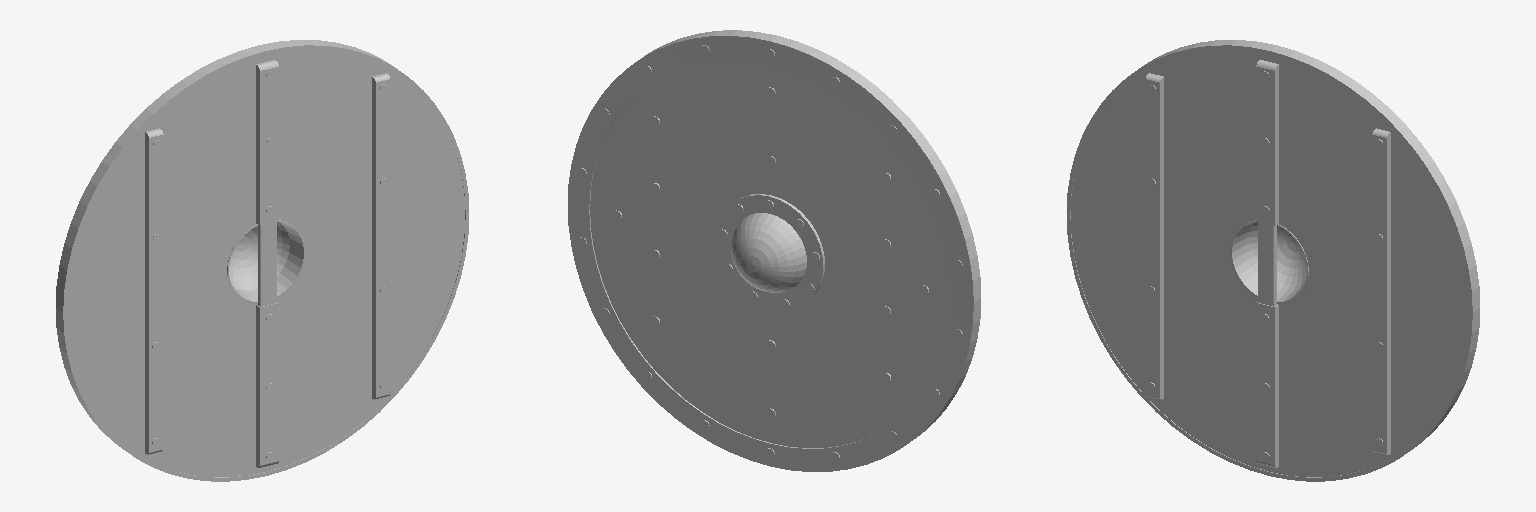
Rendered from shield.obj.
The picture shows the model from 3 angles: view 1: azimuth 30°, elevation 25°; view 2: azimuth 150°, elevation 25°; view 3: azimuth 330°, elevation 25°; orthographic projection.
Visible parts, largest first — view 1: Shield_Sphere.001; view 2: Shield_Sphere.001; view 3: Shield_Sphere.001.
Part boxes in pixels (x1,y1,x2,y2): Shield_Sphere.001: (56,40,468,481); Shield_Sphere.001: (568,30,980,471); Shield_Sphere.001: (1067,40,1479,481).
Bounding box in the file's own units: 0.7795 × 0.7795 × 0.0963.